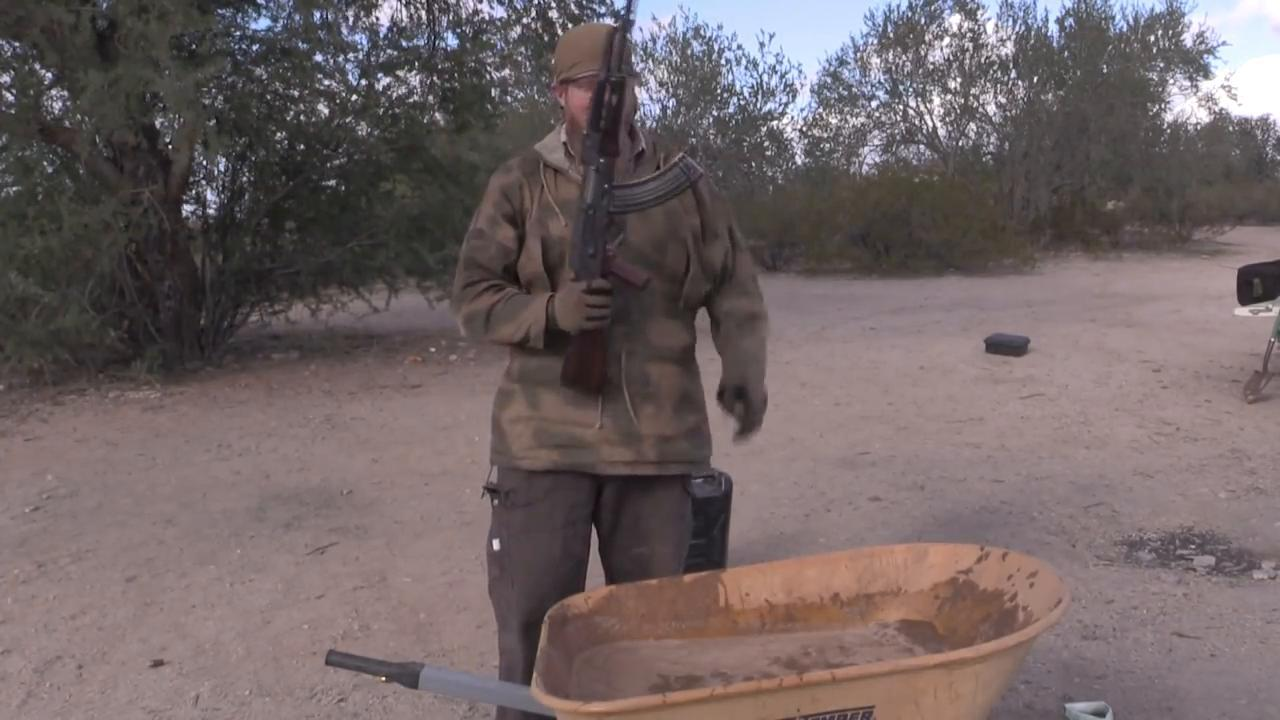AK47 Rifle: (555, 1, 703, 394)
